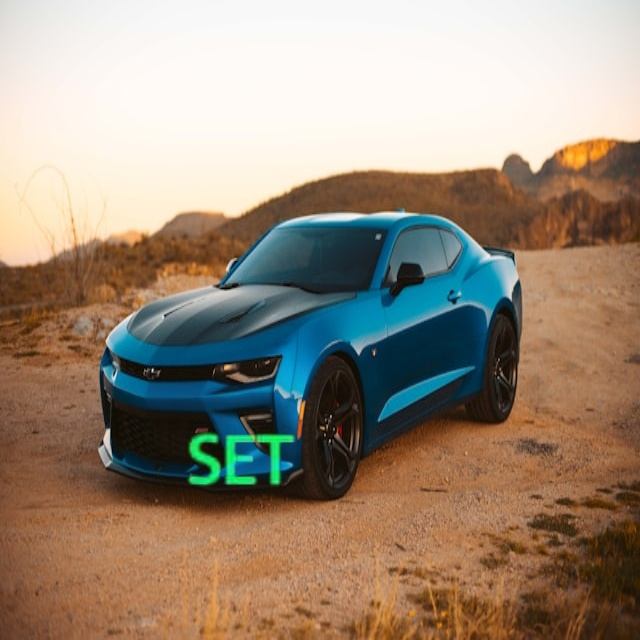symbol: (146, 366, 337, 557)
